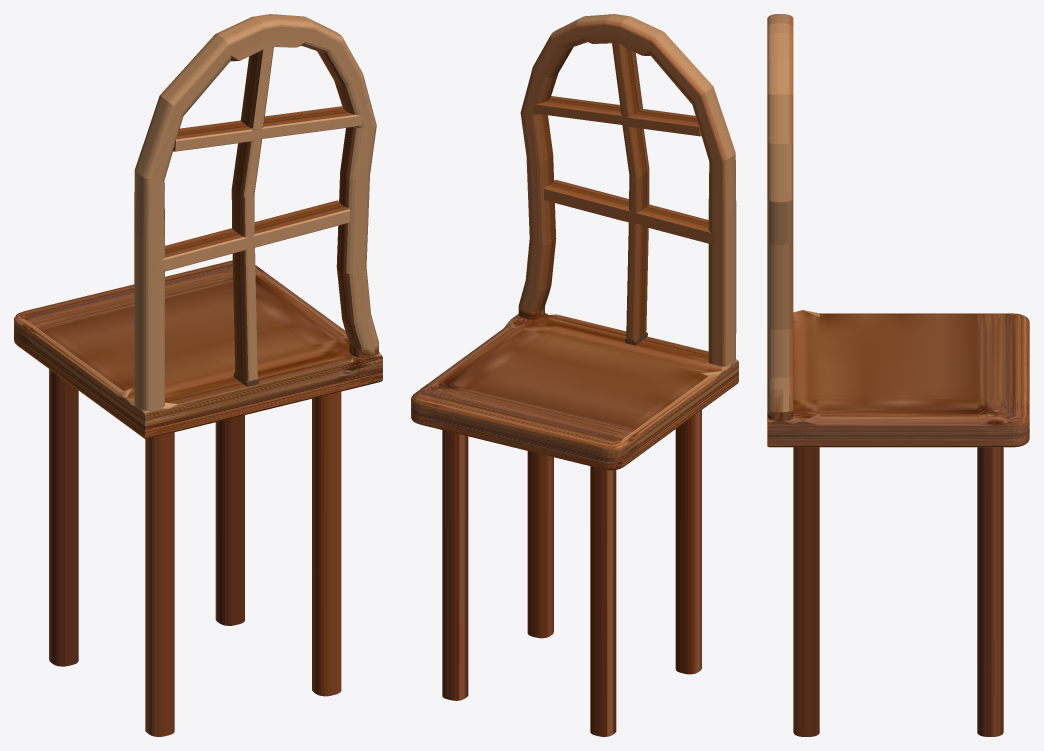
Rendered from default_chair.glb.
3 renders of one model, left to right at view 1: azimuth 30°, elevation 25°; view 2: azimuth 150°, elevation 25°; view 3: azimuth 270°, elevation 25°, orthographic. The views are drawn at different scales.
Parts seen in each view (by area): view 1: Cube; view 2: Cube; view 3: Cube.
Part boxes in pixels (x1,y1,x2,y2): Cube: (14, 14, 382, 736); Cube: (411, 14, 738, 736); Cube: (767, 14, 1029, 736).
Bounding box in the file's own units: 0.8003 × 2.25 × 0.8.
Materials: 1 (1 with a texture image).
